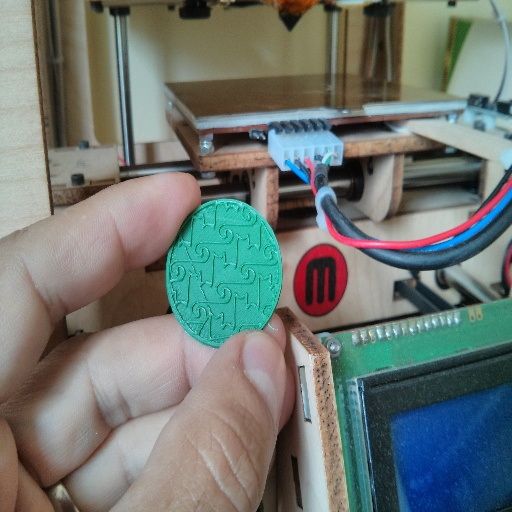hand: (0, 167, 297, 508)
